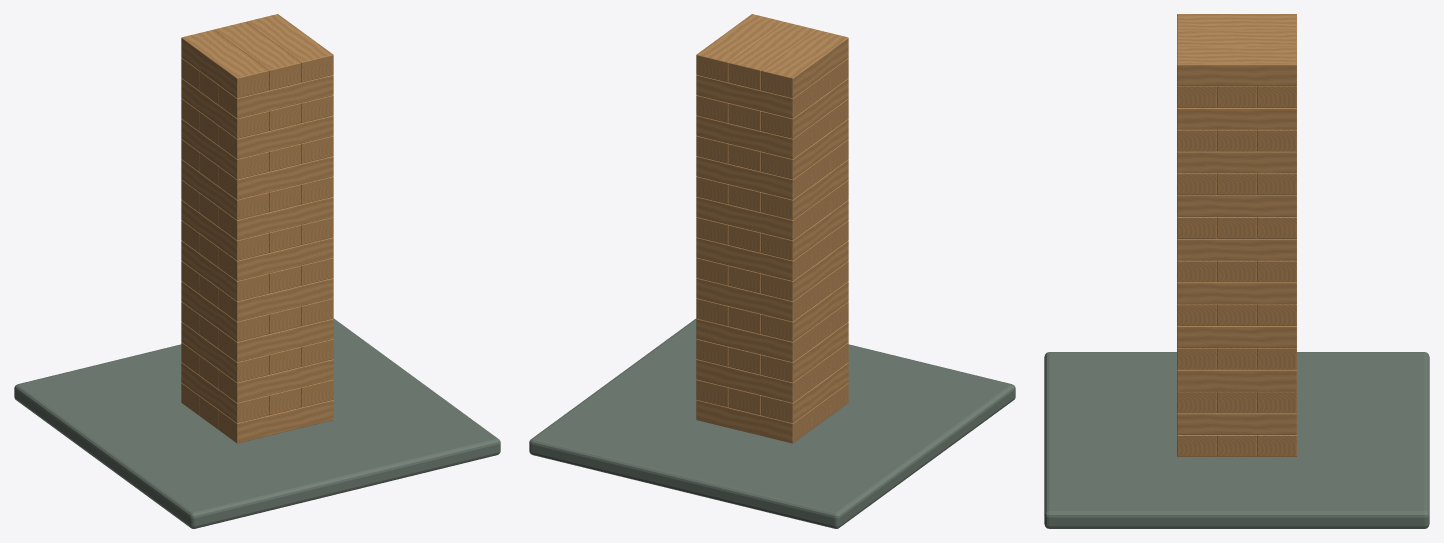
Rendered from tower_54_blocks.glb.
The picture shows the model from 3 angles, left to right: view 1: azimuth 30°, elevation 25°; view 2: azimuth 150°, elevation 25°; view 3: azimuth 270°, elevation 25°; orthographic projection. The views are drawn at different scales.
Parts seen in each view (by area): view 1: Base_240mm, Block_L18_S1, Block_L18_S3, Block_L18_S2, Block_L13_S1, Block_L03_S1, Block_L07_S1, Block_L09_S1, Block_L15_S1, Block_L01_S1, Block_L05_S1, Block_L11_S1 (+25 smaller); view 2: Base_240mm, Block_L18_S1, Block_L18_S3, Block_L18_S2, Block_L13_S3, Block_L03_S3, Block_L07_S3, Block_L09_S3, Block_L15_S3, Block_L01_S3, Block_L05_S3, Block_L11_S3 (+25 smaller); view 3: Base_240mm, Block_L18_S3, Block_L04_S3, Block_L08_S3, Block_L14_S3, Block_L10_S3, Block_L02_S3, Block_L06_S3, Block_L12_S3, Block_L16_S3, Block_L18_S1, Block_L18_S2 (+27 smaller).
Part boxes in pixels (x1,y1,x2,y2): Base_240mm: [14, 318, 500, 528]; Block_L18_S1: [181, 30, 268, 98]; Block_L18_S3: [246, 14, 333, 82]; Block_L18_S2: [214, 22, 301, 90]; Block_L13_S1: [218, 156, 333, 199]; Block_L03_S1: [218, 359, 333, 402]; Block_L07_S1: [218, 278, 333, 321]; Block_L09_S1: [218, 237, 333, 280]; Block_L15_S1: [218, 115, 333, 159]; Block_L01_S1: [218, 400, 333, 443]; Block_L05_S1: [218, 318, 333, 362]; Block_L11_S1: [218, 196, 333, 240]; Base_240mm: [529, 318, 1015, 528]; Block_L18_S1: [761, 30, 848, 98]; Block_L18_S3: [696, 14, 783, 82]; Block_L18_S2: [728, 22, 815, 90]; Block_L13_S3: [696, 156, 811, 199]; Block_L03_S3: [696, 359, 811, 402]; Block_L07_S3: [696, 278, 811, 321]; Block_L09_S3: [696, 237, 811, 280]; Block_L15_S3: [696, 115, 811, 159]; Block_L01_S3: [696, 400, 811, 443]; Block_L05_S3: [696, 318, 811, 362]; Block_L11_S3: [696, 196, 811, 240]; Base_240mm: [1044, 352, 1429, 528]; Block_L18_S3: [1177, 48, 1296, 86]; Block_L04_S3: [1177, 369, 1296, 391]; Block_L08_S3: [1177, 282, 1296, 304]; Block_L14_S3: [1177, 151, 1296, 173]; Block_L10_S3: [1177, 238, 1296, 260]; Block_L02_S3: [1177, 413, 1296, 434]; Block_L06_S3: [1177, 326, 1296, 347]; Block_L12_S3: [1177, 195, 1296, 216]; Block_L16_S3: [1177, 108, 1296, 129]; Block_L18_S1: [1177, 14, 1296, 30]; Block_L18_S2: [1177, 31, 1296, 47].
Bounding box in the file's own units: 0.24 × 0.282 × 0.24.
Materials: 2 (1 with a texture image).
